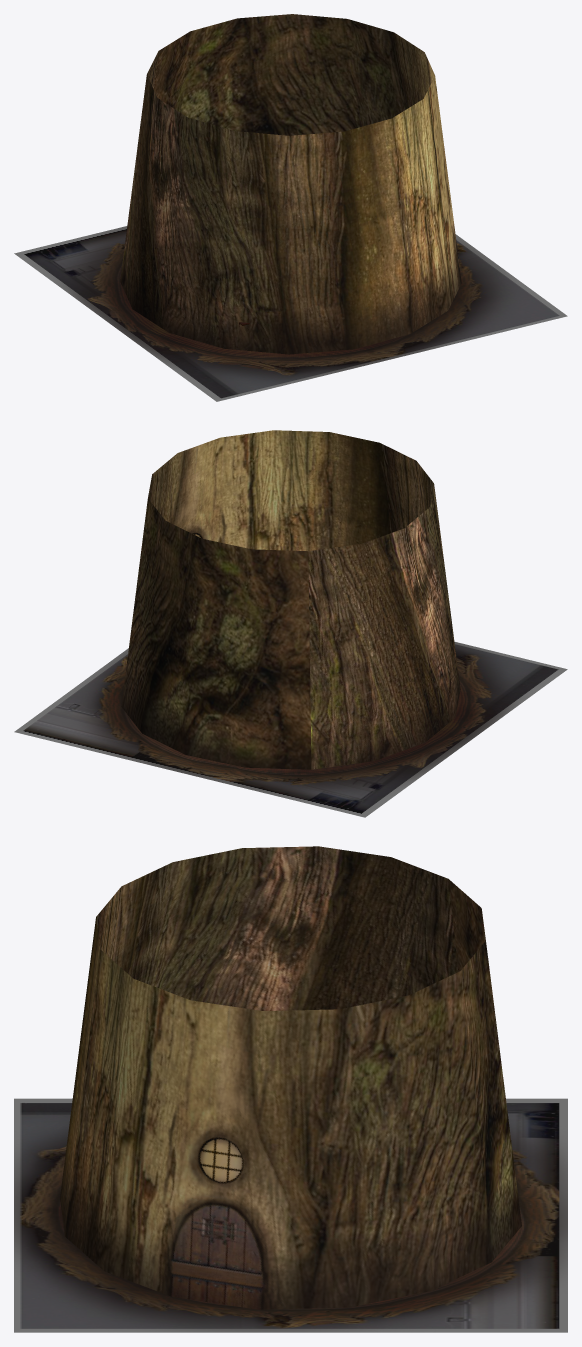
The model's file is TREE_BAR.fbx.
3 views of the same model, one above another, from view 1: azimuth 30°, elevation 25°; view 2: azimuth 150°, elevation 25°; view 3: azimuth 270°, elevation 25° (orthographic). The views are drawn at different scales.
Visible parts, largest first — view 1: Circle, Plane_002; view 2: Circle, Plane_002; view 3: Circle, Plane_002.
Boxes of the visible parts, x1,y1,x2,y2 form: Circle: (120, 14, 461, 354); Plane_002: (14, 226, 567, 401); Circle: (121, 430, 460, 769); Plane_002: (14, 641, 567, 817); Circle: (60, 846, 521, 1309); Plane_002: (14, 1098, 567, 1332).
Bounding box in the file's own units: 34.5 × 19.71 × 34.5.
